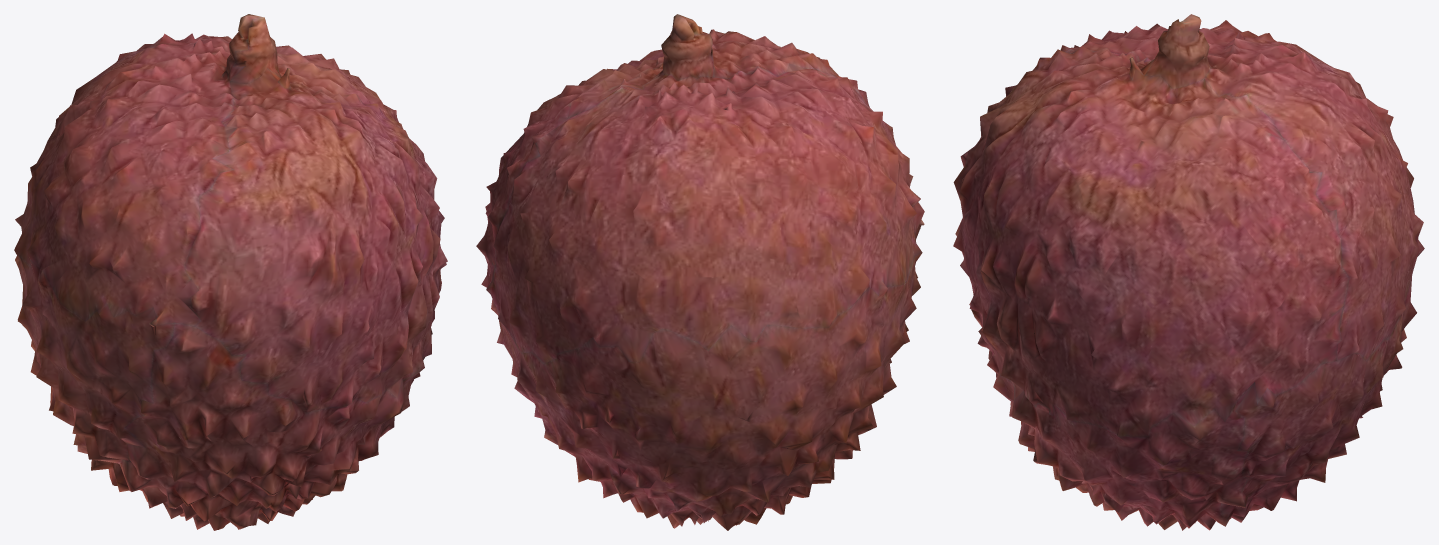
The model's file is lychee.glb.
The picture shows the model from 3 angles, left to right: view 1: azimuth 30°, elevation 25°; view 2: azimuth 150°, elevation 25°; view 3: azimuth 270°, elevation 25°; orthographic projection. The views are drawn at different scales.
Parts seen in each view (by area): view 1: food_lychee_01; view 2: food_lychee_01; view 3: food_lychee_01.
Part boxes in pixels (bbox=[...]): food_lychee_01: bbox=[14, 14, 447, 530]; food_lychee_01: bbox=[476, 14, 924, 530]; food_lychee_01: bbox=[953, 14, 1424, 530].
Size of the model in its own units: 0.0409 by 0.0506 by 0.042.
1 material, 1 textured.
